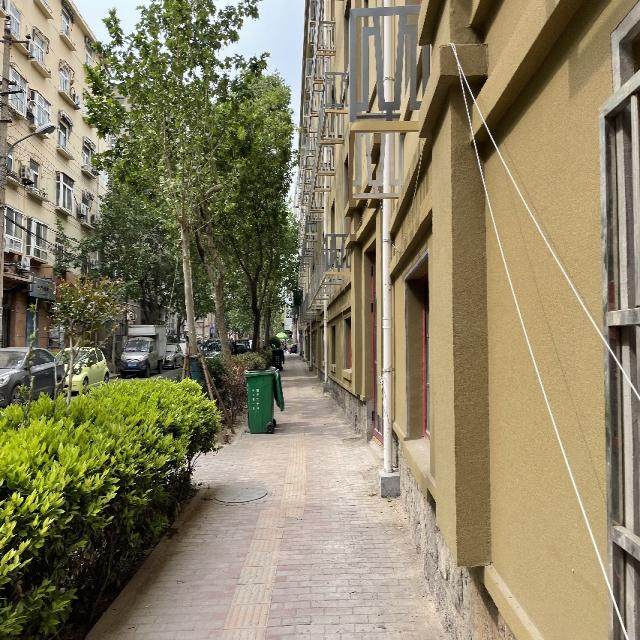garbage_bin: (244, 368, 272, 433)
